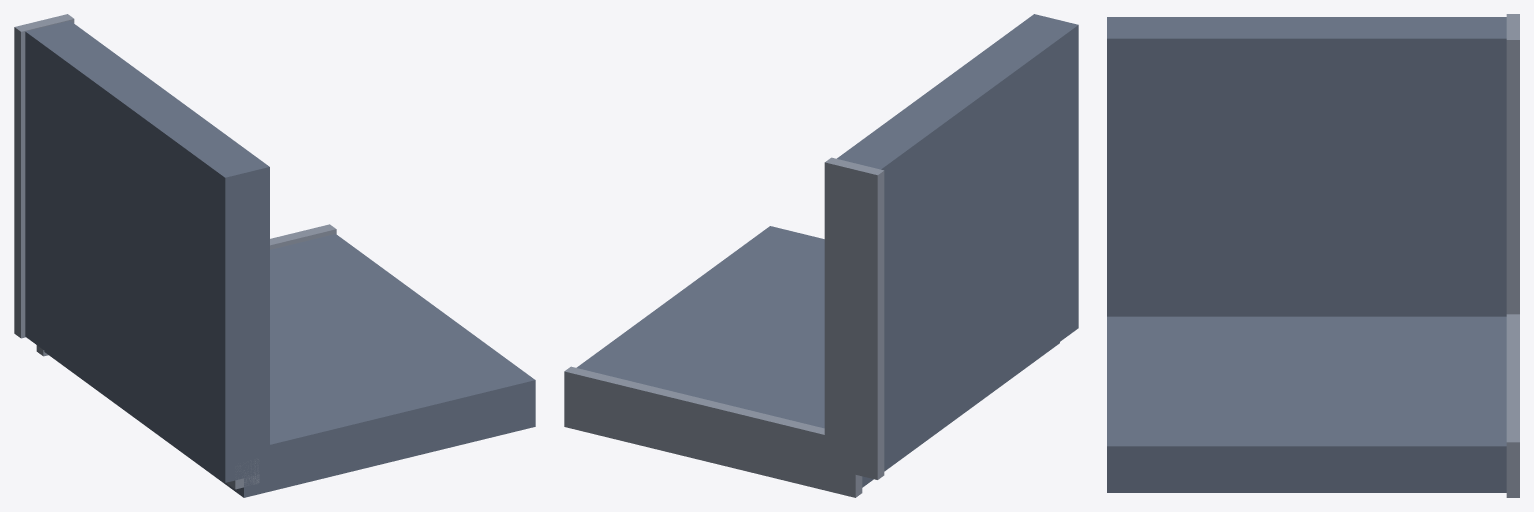
File: corridor_wall_corner_3p946.glb
3 views of the same model, side by side, from view 1: azimuth 30°, elevation 25°; view 2: azimuth 150°, elevation 25°; view 3: azimuth 270°, elevation 25° (orthographic).
Visible parts, largest first — view 1: ArmZ, ArmX, CapZ, CapX; view 2: ArmZ, ArmX, CapZ, CapX; view 3: ArmZ, ArmX, CapZ, CapX.
Part boxes in pixels (<box>): ArmZ: <box>25,21,269,482</box>; ArmX: <box>44,234,535,497</box>; CapZ: <box>14,14,74,338</box>; CapX: <box>36,224,336,356</box>; ArmZ: <box>837,14,1078,469</box>; ArmX: <box>576,226,1059,487</box>; CapZ: <box>824,157,884,479</box>; CapX: <box>564,366,862,497</box>; ArmZ: <box>1107,17,1506,316</box>; ArmX: <box>1107,316,1506,492</box>; CapZ: <box>1506,14,1519,314</box>; CapX: <box>1506,314,1519,497</box>.
Size of the model in its own units: 4.38 by 4.38 by 4.96.
